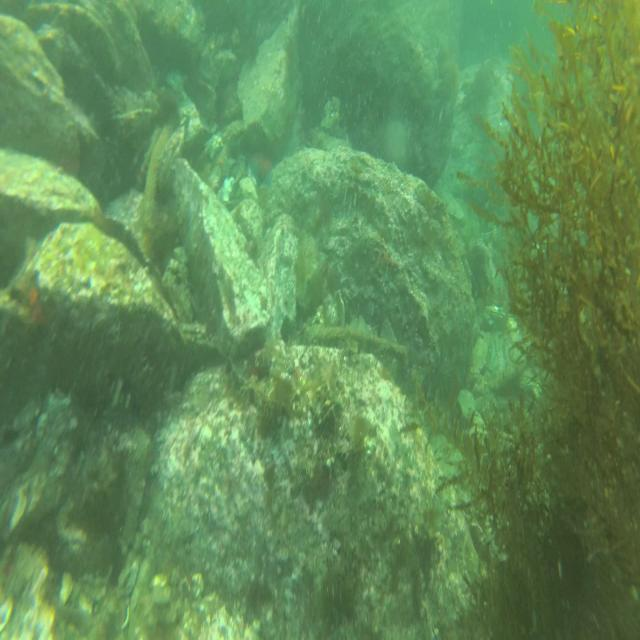starfish: (248, 140, 278, 192)
